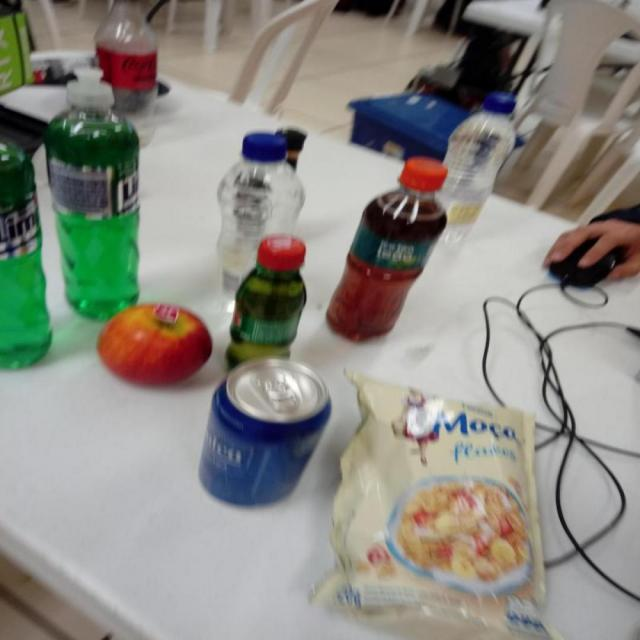Apple: (98, 302, 214, 386)
Cleaner: (46, 65, 144, 322), (0, 133, 53, 372)
CornFlakes: (307, 371, 543, 640)
EnglishSauce: (278, 131, 312, 159)
Guarana: (225, 236, 308, 370)
IceTea: (325, 156, 449, 342)
Tonic: (196, 359, 343, 509)
Water: (218, 133, 308, 297), (435, 91, 516, 218)
